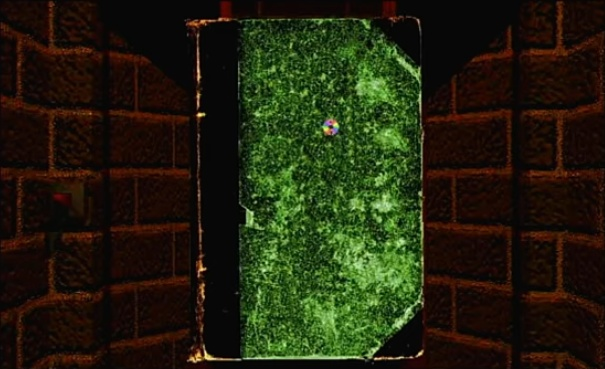Waiting: (319, 117, 342, 136)
